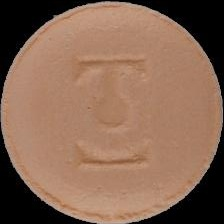0093-5030: (0, 0, 224, 224)
